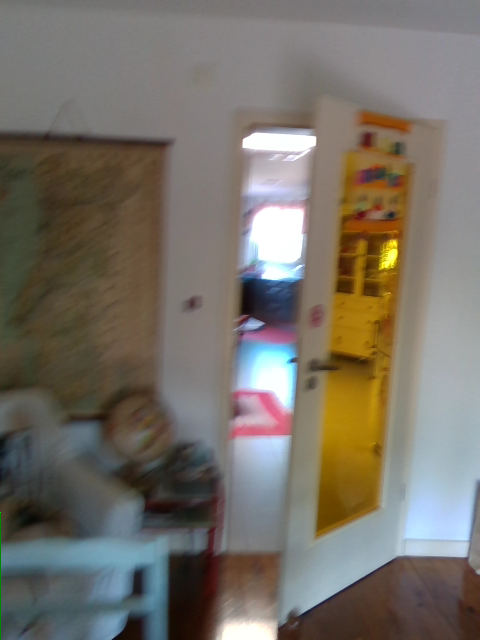semi: (219, 98, 445, 630)
